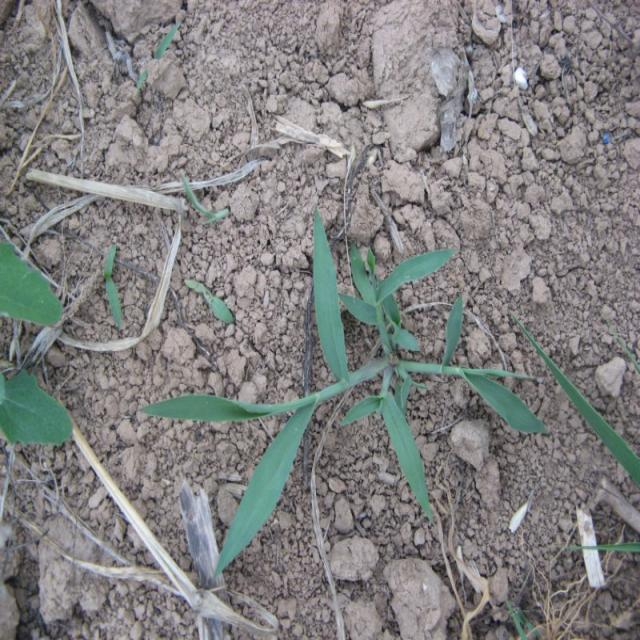bg: (139, 214, 559, 562)
